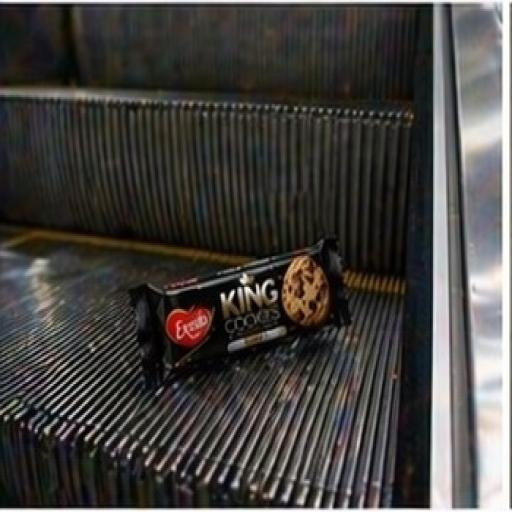king_cooking: (122, 186, 394, 440)
